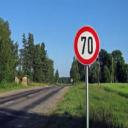speed_limit_70: (72, 25, 102, 66)
